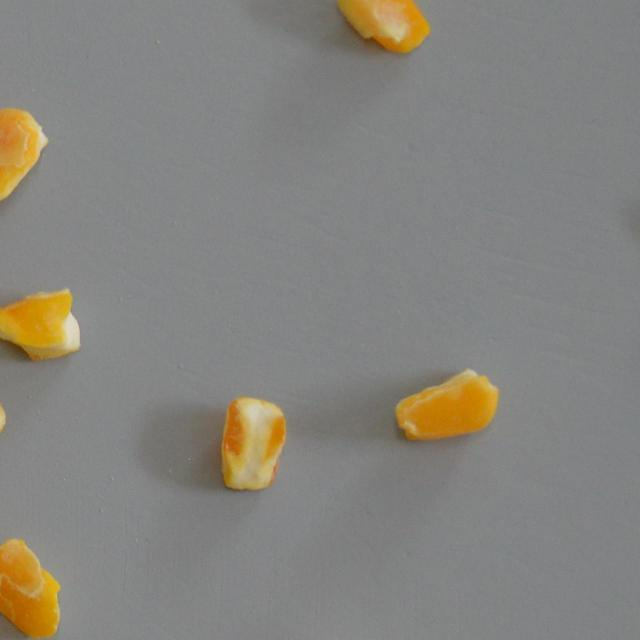dañado: (390, 364, 502, 444), (217, 390, 288, 494), (0, 282, 84, 365), (0, 535, 64, 640), (0, 96, 50, 212), (333, 0, 432, 58)
